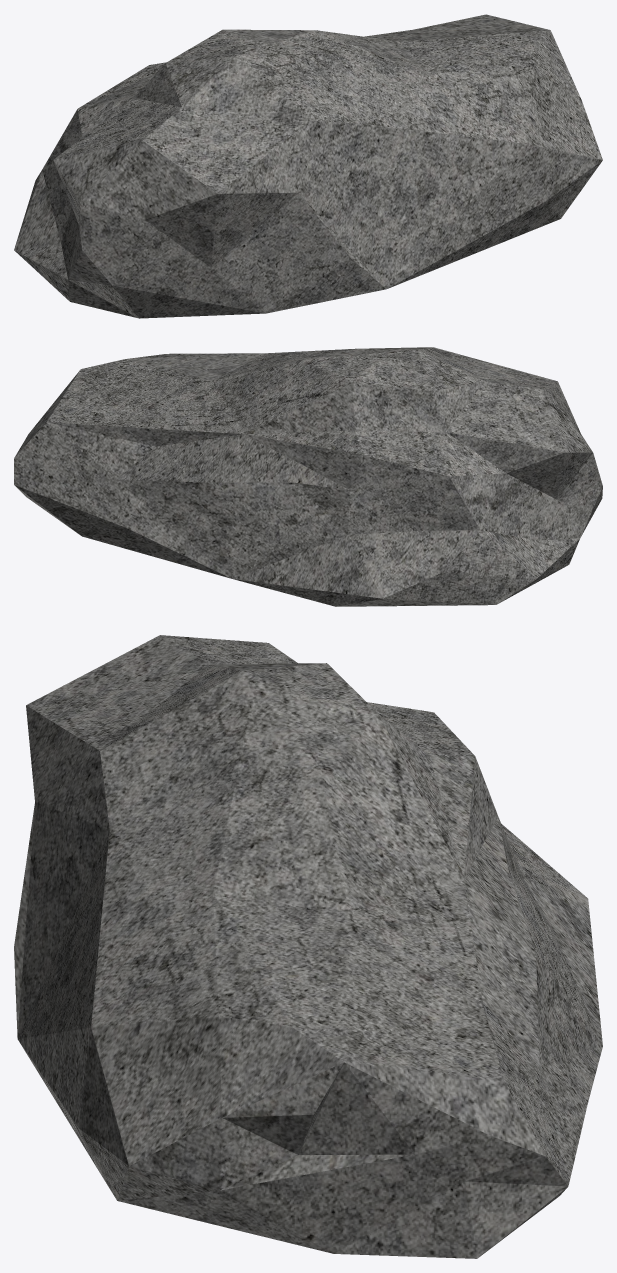
File: roccia_5.fbx
The picture shows the model from 3 angles, top to bottom: view 1: azimuth 30°, elevation 25°; view 2: azimuth 150°, elevation 25°; view 3: azimuth 270°, elevation 25°; orthographic projection. The views are drawn at different scales.
Parts seen in each view (by area): view 1: roccia_5; view 2: roccia_5; view 3: roccia_5.
Part boxes in pixels (x1,y1,x2,y2): roccia_5: [14, 14, 602, 318]; roccia_5: [14, 347, 602, 606]; roccia_5: [14, 635, 602, 1258].
Bounding box in the file's own units: 78.46 × 28.02 × 47.14.
